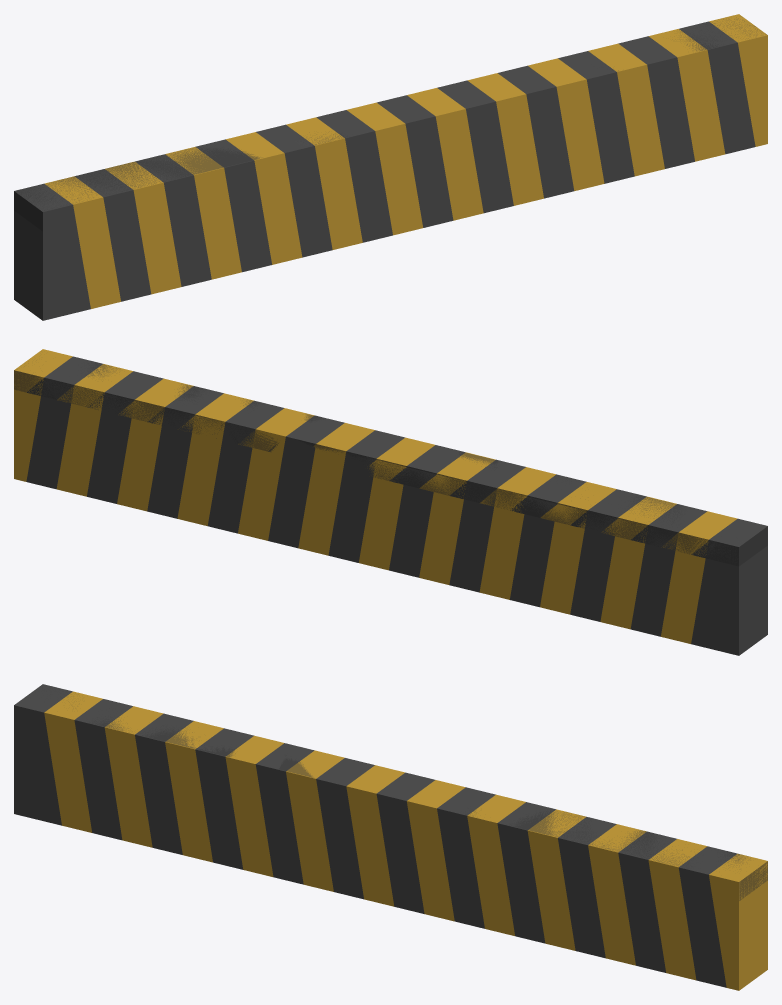
The model's file is s_roadside.dae.
3 views of the same model, one above another, from view 1: azimuth 30°, elevation 25°; view 2: azimuth 150°, elevation 25°; view 3: azimuth 330°, elevation 25° (orthographic).
Visible parts, largest first — view 1: Colmesh_jv_roadside-1, jv_roadside_L100, jv_roadside_L600; view 2: Colmesh_jv_roadside-1, jv_roadside_L100, jv_roadside_L600; view 3: Colmesh_jv_roadside-1, jv_roadside_L100, jv_roadside_L600.
Part boxes in pixels (left/top/right/bottom): Colmesh_jv_roadside-1: left=14, top=14, right=767, bottom=320; jv_roadside_L100: left=14, top=15, right=766, bottom=230; jv_roadside_L600: left=23, top=24, right=726, bottom=209; Colmesh_jv_roadside-1: left=14, top=349, right=767, bottom=655; jv_roadside_L100: left=14, top=351, right=767, bottom=566; jv_roadside_L600: left=17, top=358, right=760, bottom=559; Colmesh_jv_roadside-1: left=14, top=684, right=767, bottom=990; jv_roadside_L100: left=31, top=686, right=767, bottom=900; jv_roadside_L600: left=19, top=686, right=742, bottom=868.
Bounding box in the file's own units: 570 × 39.38 × 81.69.
